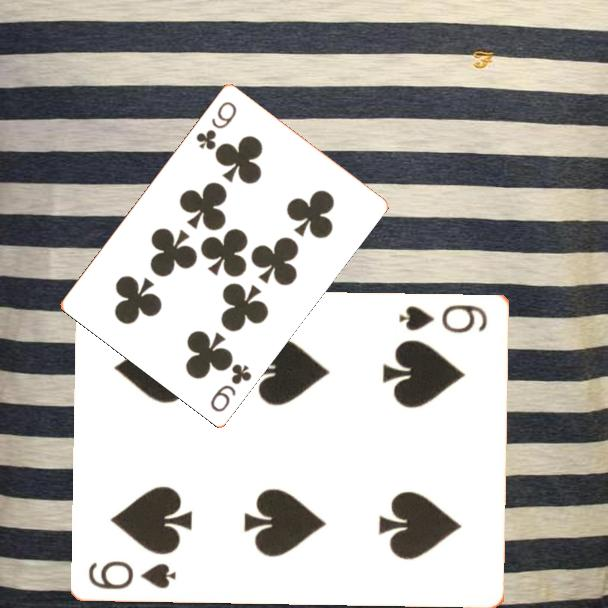c09: (192, 97, 240, 153), (207, 360, 255, 415)
s06: (396, 301, 491, 336), (85, 557, 179, 592)
